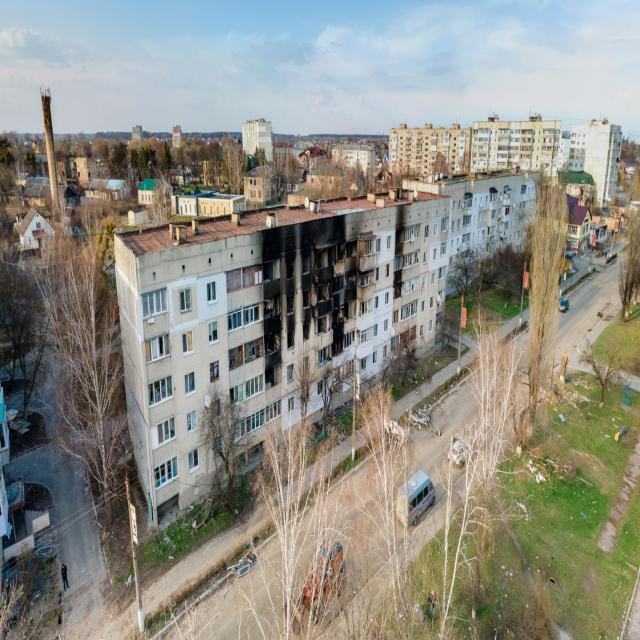damaged_roof: (114, 186, 449, 258)
